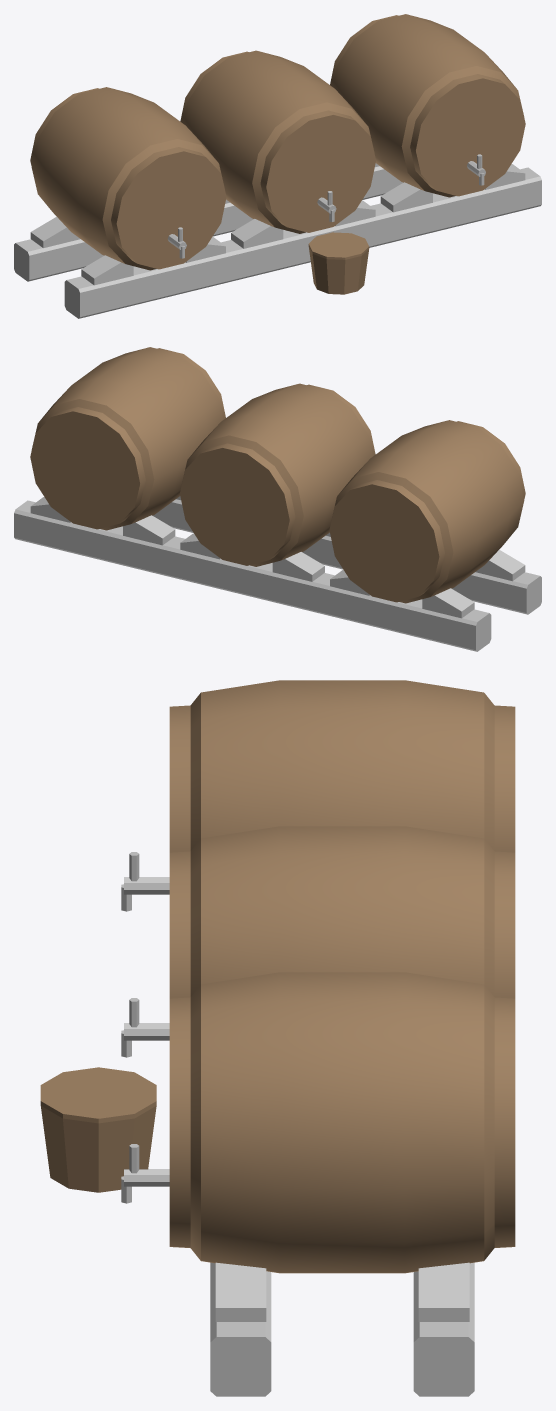
The model's file is furn_cask_rack.glb.
3 renders of one model, top to bottom at view 1: azimuth 30°, elevation 25°; view 2: azimuth 150°, elevation 25°; view 3: azimuth 270°, elevation 25°, orthographic. The views are drawn at different scales.
Visible parts, largest first — view 1: furn_cask_rack; view 2: furn_cask_rack; view 3: furn_cask_rack.
Part boxes in pixels (x1,y1,x2,y2): furn_cask_rack: (14, 14, 541, 318); furn_cask_rack: (14, 347, 541, 651); furn_cask_rack: (40, 680, 515, 1396).
Size of the model in its own units: 2.1 by 0.7182 by 0.9341.
